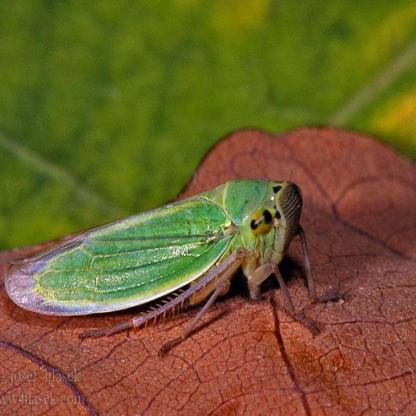Green-Leafhopper: (0, 176, 343, 353)
